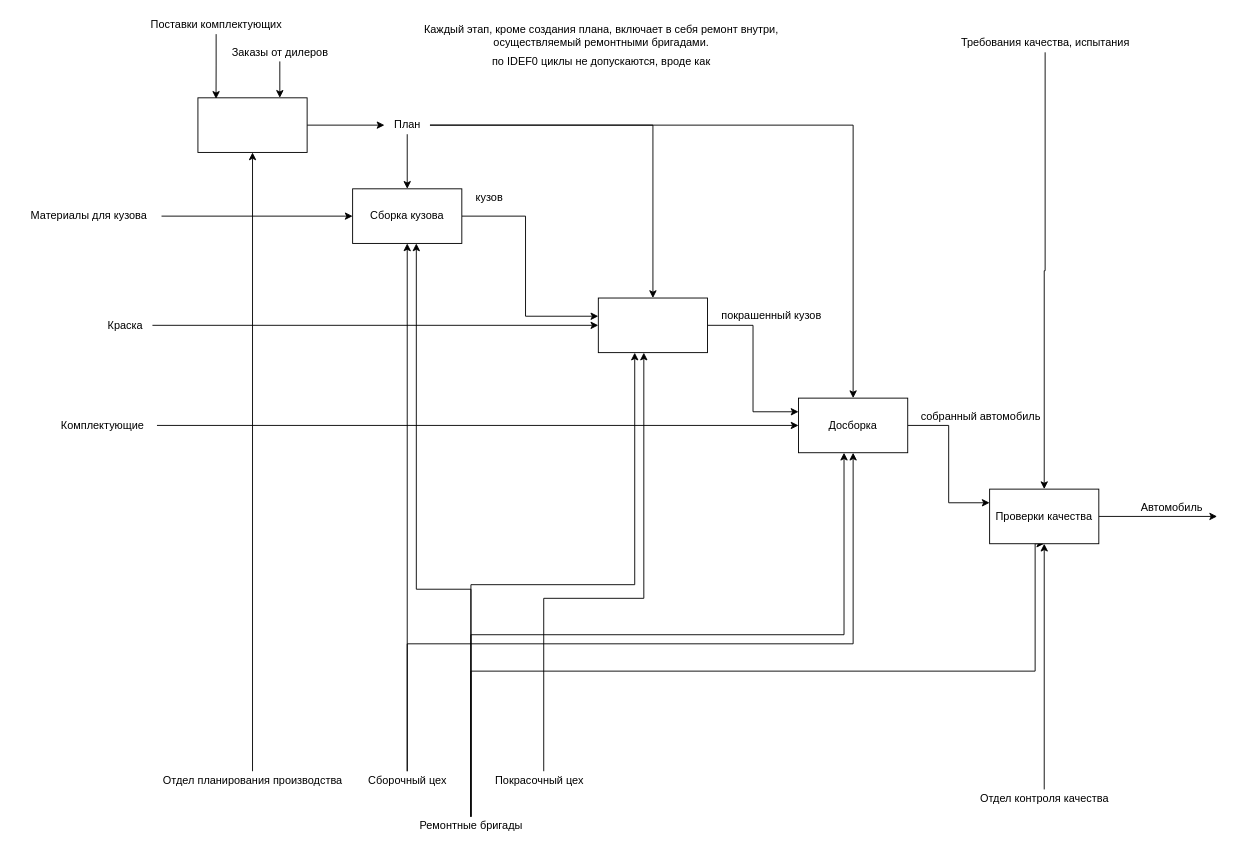
Some shapes in this 1240 by 850 pixel diagram are drawn without their labels. The box of each missing label's shape, as (x1, y1, x2, y2) in pixels:
Покраска: (597, 297, 708, 353)
создание плана: (197, 97, 307, 152)
